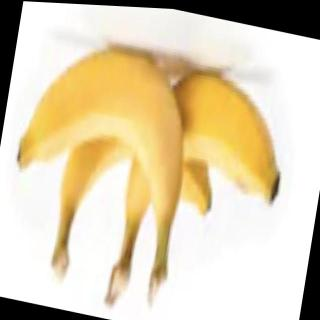banana: (8, 27, 202, 231), (118, 54, 297, 258), (54, 85, 226, 242)
